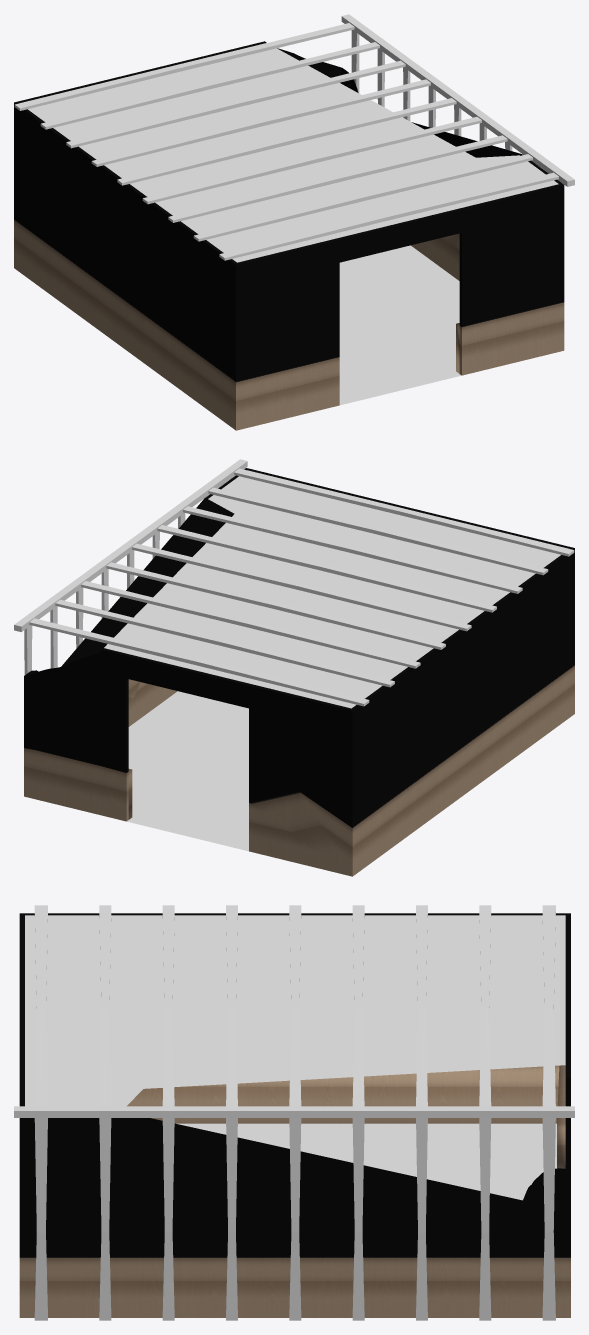
The model's file is Room_04.fbx.
The picture shows the model from 3 angles, top to bottom: view 1: azimuth 30°, elevation 25°; view 2: azimuth 150°, elevation 25°; view 3: azimuth 270°, elevation 25°; orthographic projection. The views are drawn at different scales.
Visible parts, largest first — view 1: Plane.002, Plane, Plane.004, Plane.001; view 2: Plane.002, Plane, Plane.004, Plane.001, Plane.003; view 3: Plane.002, Plane, Plane.004, Plane.001.
Part boxes in pixels (x1,y1,x2,y2): Plane.002: [14, 41, 564, 430]; Plane: [24, 43, 558, 262]; Plane.004: [14, 14, 574, 260]; Plane.001: [339, 245, 461, 405]; Plane.002: [24, 468, 574, 876]; Plane: [104, 470, 567, 708]; Plane.004: [14, 459, 574, 706]; Plane.001: [127, 691, 248, 851]; Plane.003: [29, 499, 234, 674]; Plane.002: [19, 913, 570, 1317]; Plane: [25, 915, 565, 1106]; Plane.004: [14, 905, 574, 1320]; Plane.001: [176, 1123, 556, 1200].
Size of the model in its own units: 181 by 86.43 by 207.
